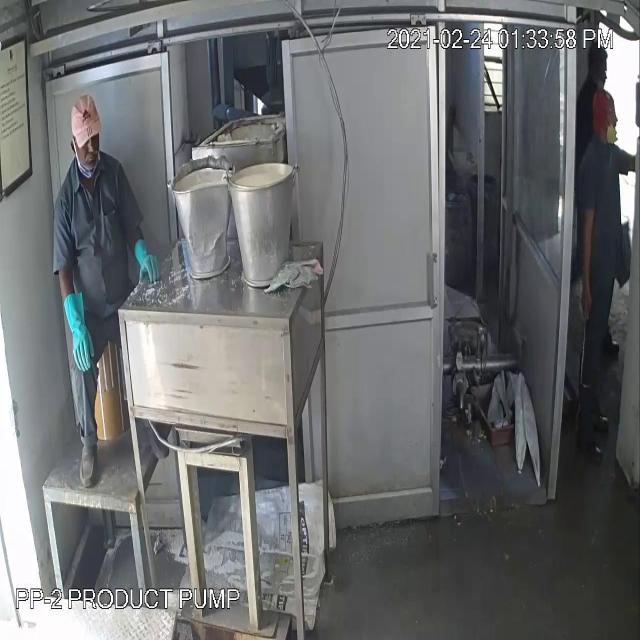no-helmet: (63, 89, 109, 155), (588, 80, 620, 125)
